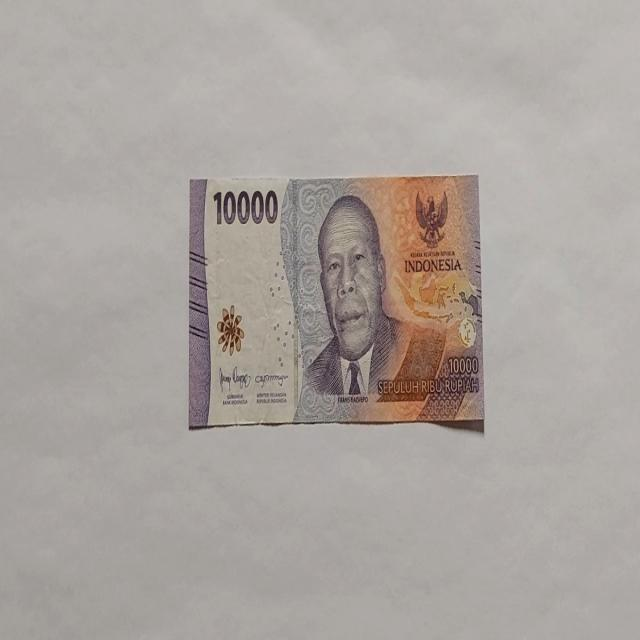sepuluh ribu rupiah: (188, 172, 484, 430)
